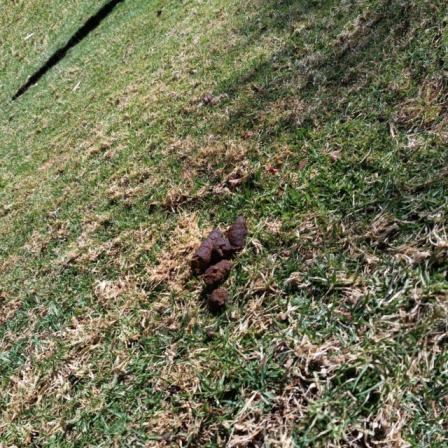dog-poop: (193, 226, 247, 308)
